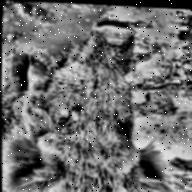boar: (0, 11, 188, 192)
